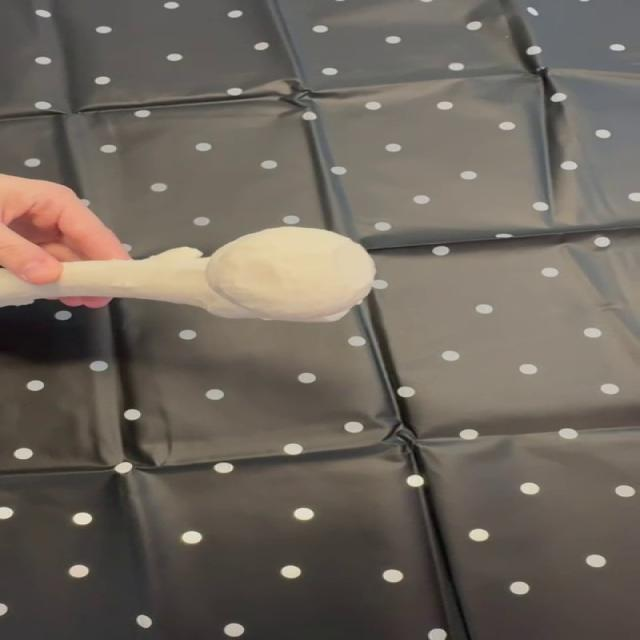bones: (0, 228, 375, 322)
